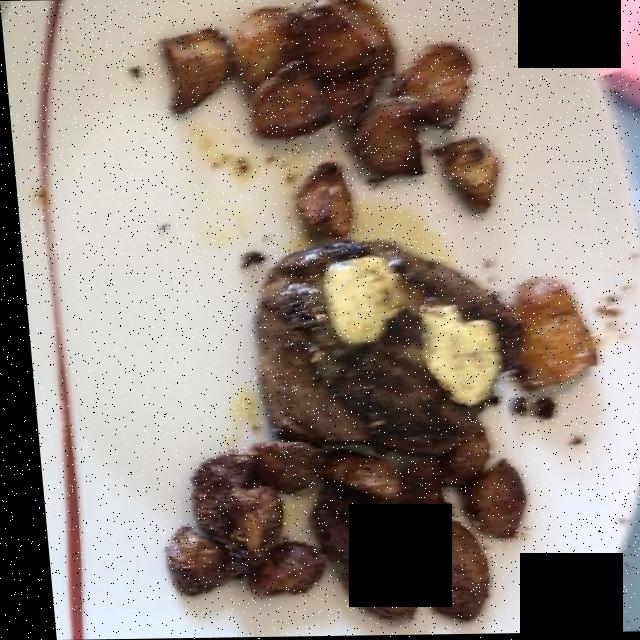potatoes-steamed: (110, 0, 606, 628)
